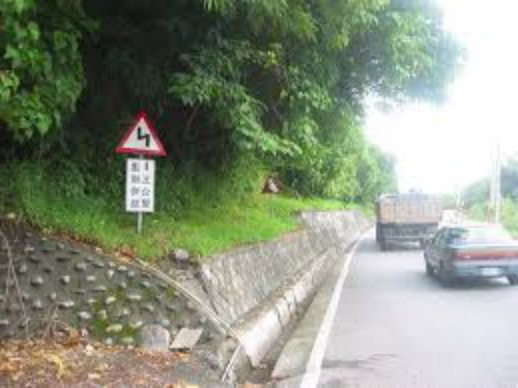Double_bend_left: (111, 109, 170, 158)
